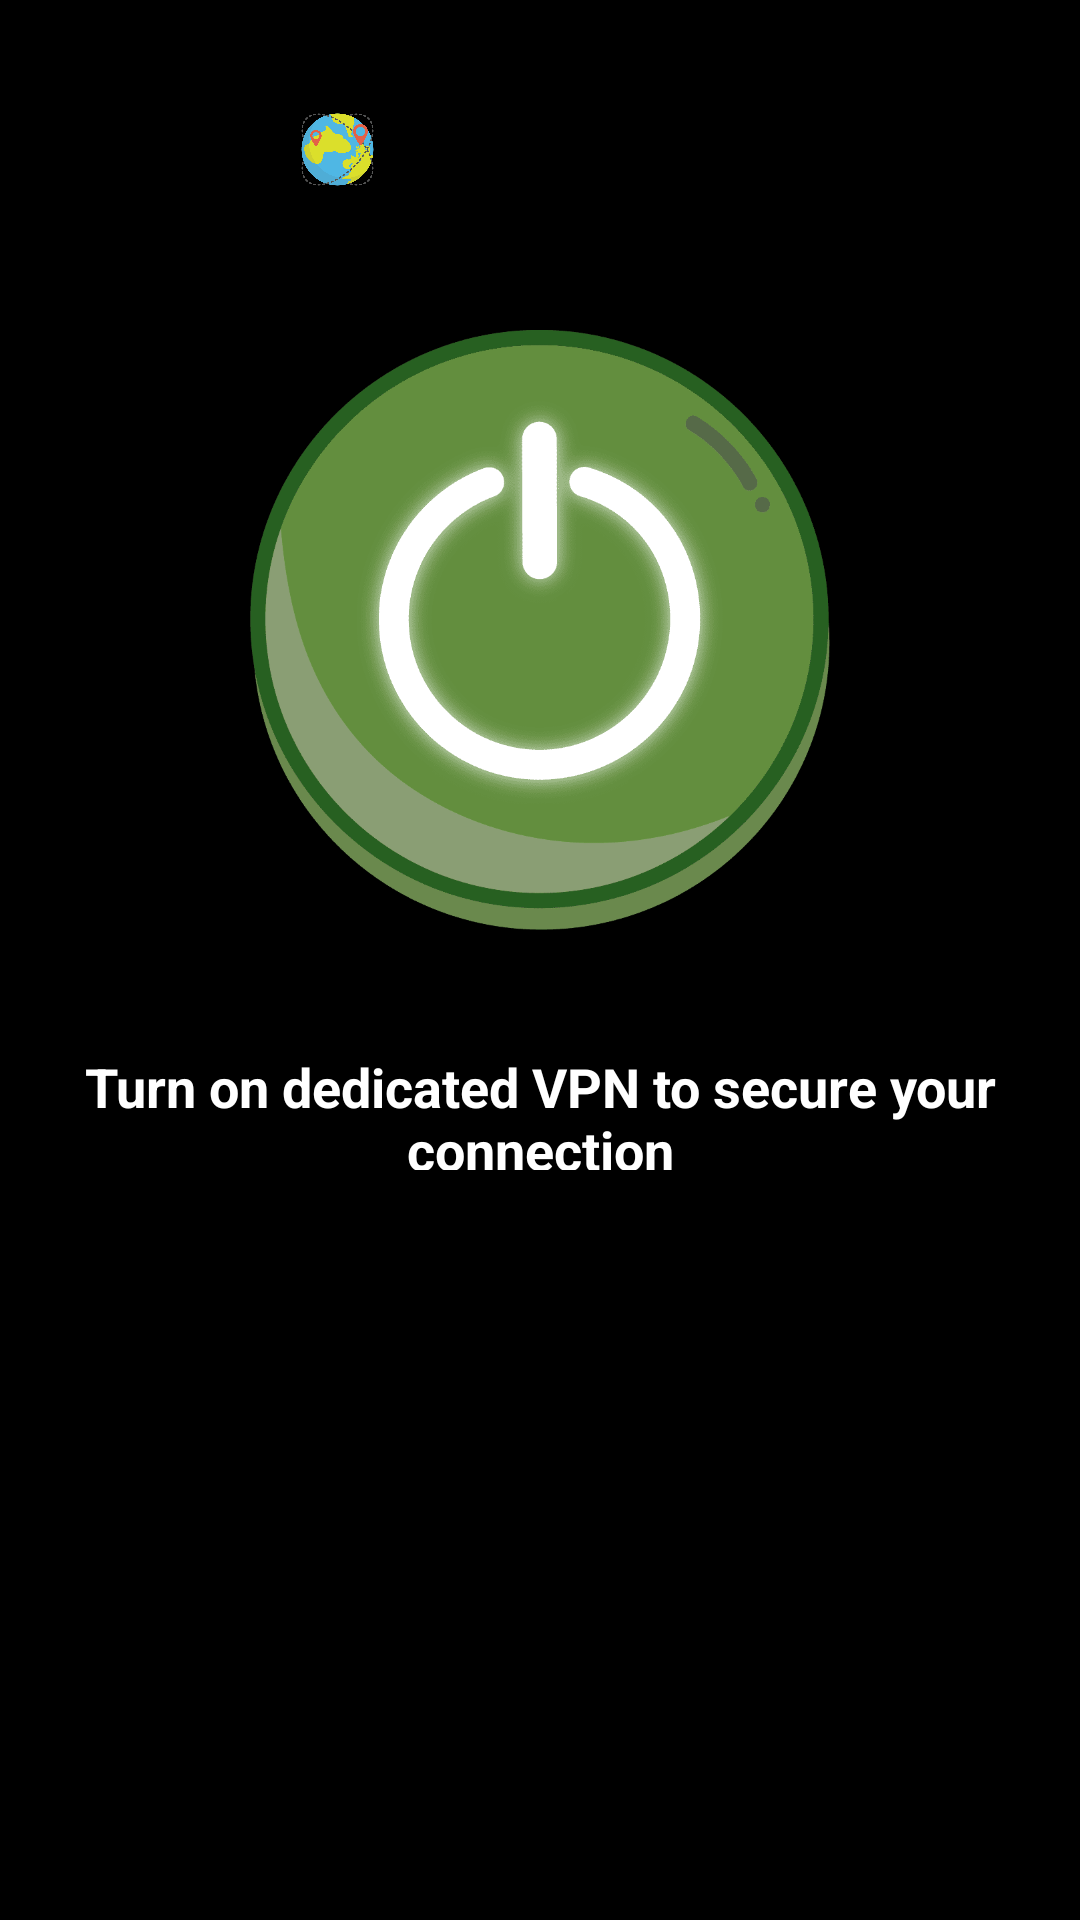

Icons on this 1080x1920 Android screen, each with its box as (x1, y1, x2, y2):
earth: (301, 113, 374, 186)
